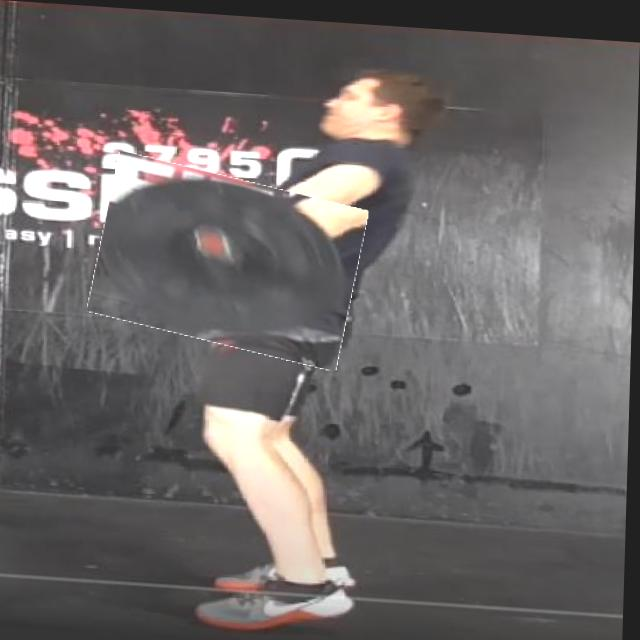barbell: (96, 159, 366, 358)
